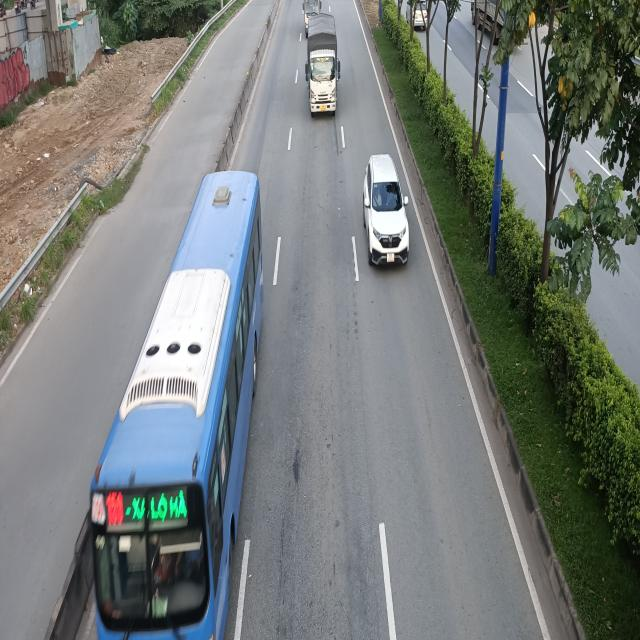car: (361, 155, 407, 269)
coach: (79, 172, 266, 640)
truck: (307, 16, 343, 118)
